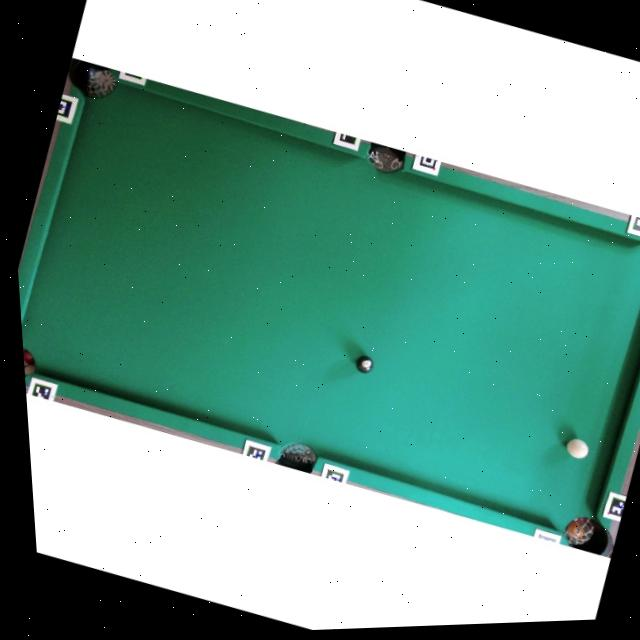cue ball: (562, 434, 593, 462)
other: (353, 353, 376, 376)
